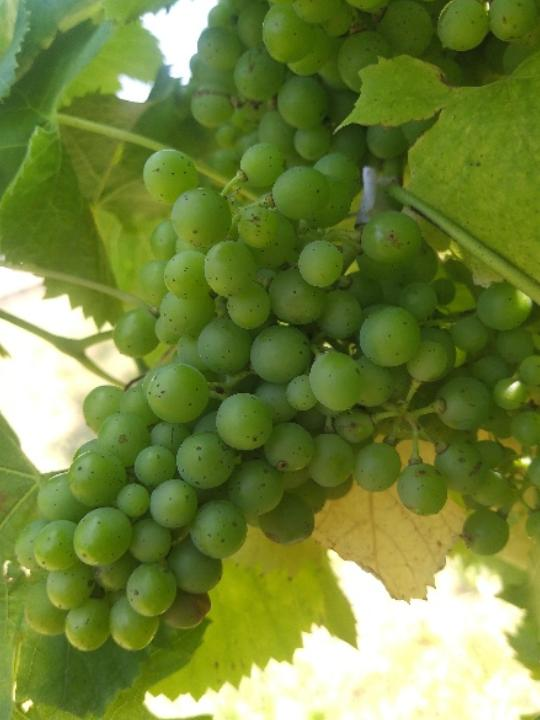grape: (8, 141, 540, 655)
